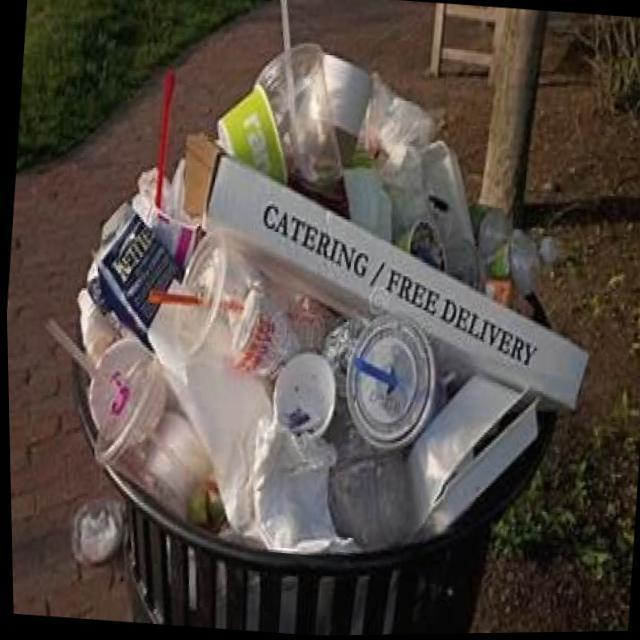Disposable: (147, 231, 293, 377), (255, 44, 341, 197), (344, 317, 433, 451), (86, 338, 166, 464)
Garbage: (62, 0, 585, 553)
Plastic_Container: (129, 407, 209, 523), (216, 85, 286, 182)
Plastic_Straw: (153, 69, 174, 207), (44, 319, 93, 378), (146, 290, 203, 306), (280, 0, 291, 53)
Plastic_bottle: (483, 231, 556, 307)
